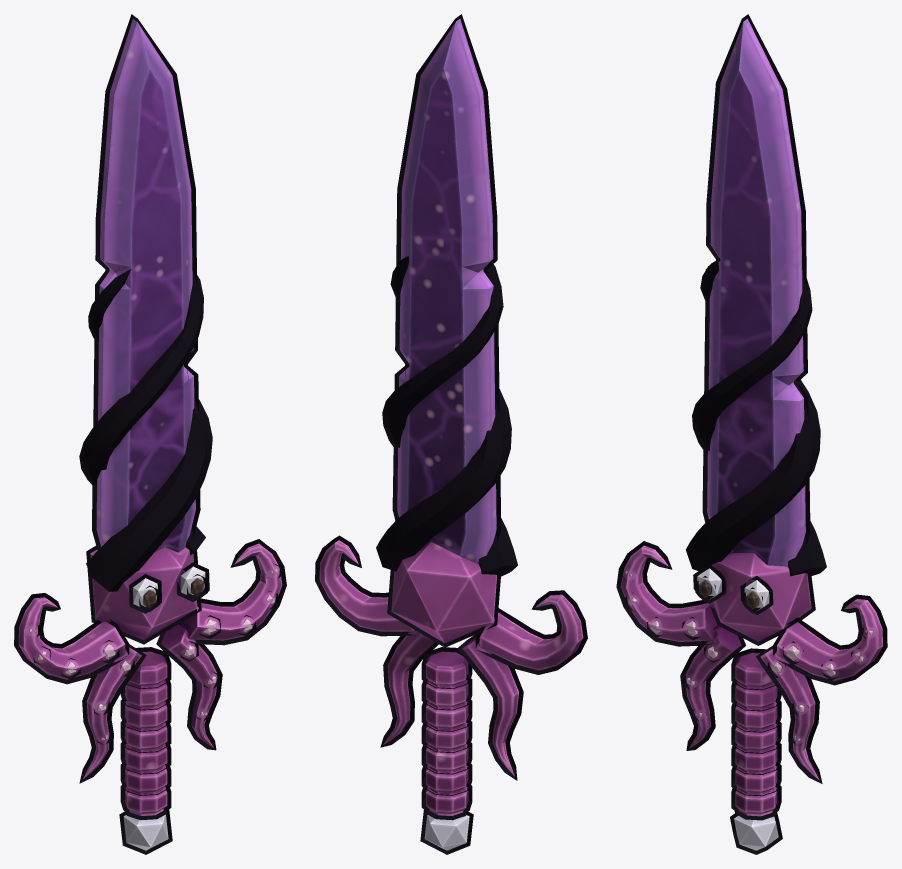
Rendered from OctopusBlade.fbx.
The picture shows the model from 3 angles, left to right: view 1: azimuth 30°, elevation 25°; view 2: azimuth 150°, elevation 25°; view 3: azimuth 330°, elevation 25°; orthographic projection.
Visible parts, largest first — view 1: OctopusBlade, OctopusBladeOutline; view 2: OctopusBlade, OctopusBladeOutline; view 3: OctopusBlade, OctopusBladeOutline.
Part boxes in pixels (box(x1,y1,x2,y2)): OctopusBlade: box(18, 18, 282, 850); OctopusBladeOutline: box(14, 14, 286, 854); OctopusBlade: box(319, 18, 583, 850); OctopusBladeOutline: box(315, 14, 587, 854); OctopusBlade: box(621, 19, 882, 850); OctopusBladeOutline: box(616, 14, 887, 854).
Size of the model in its own units: 145 by 439 by 55.46.
2 materials, 1 textured.
